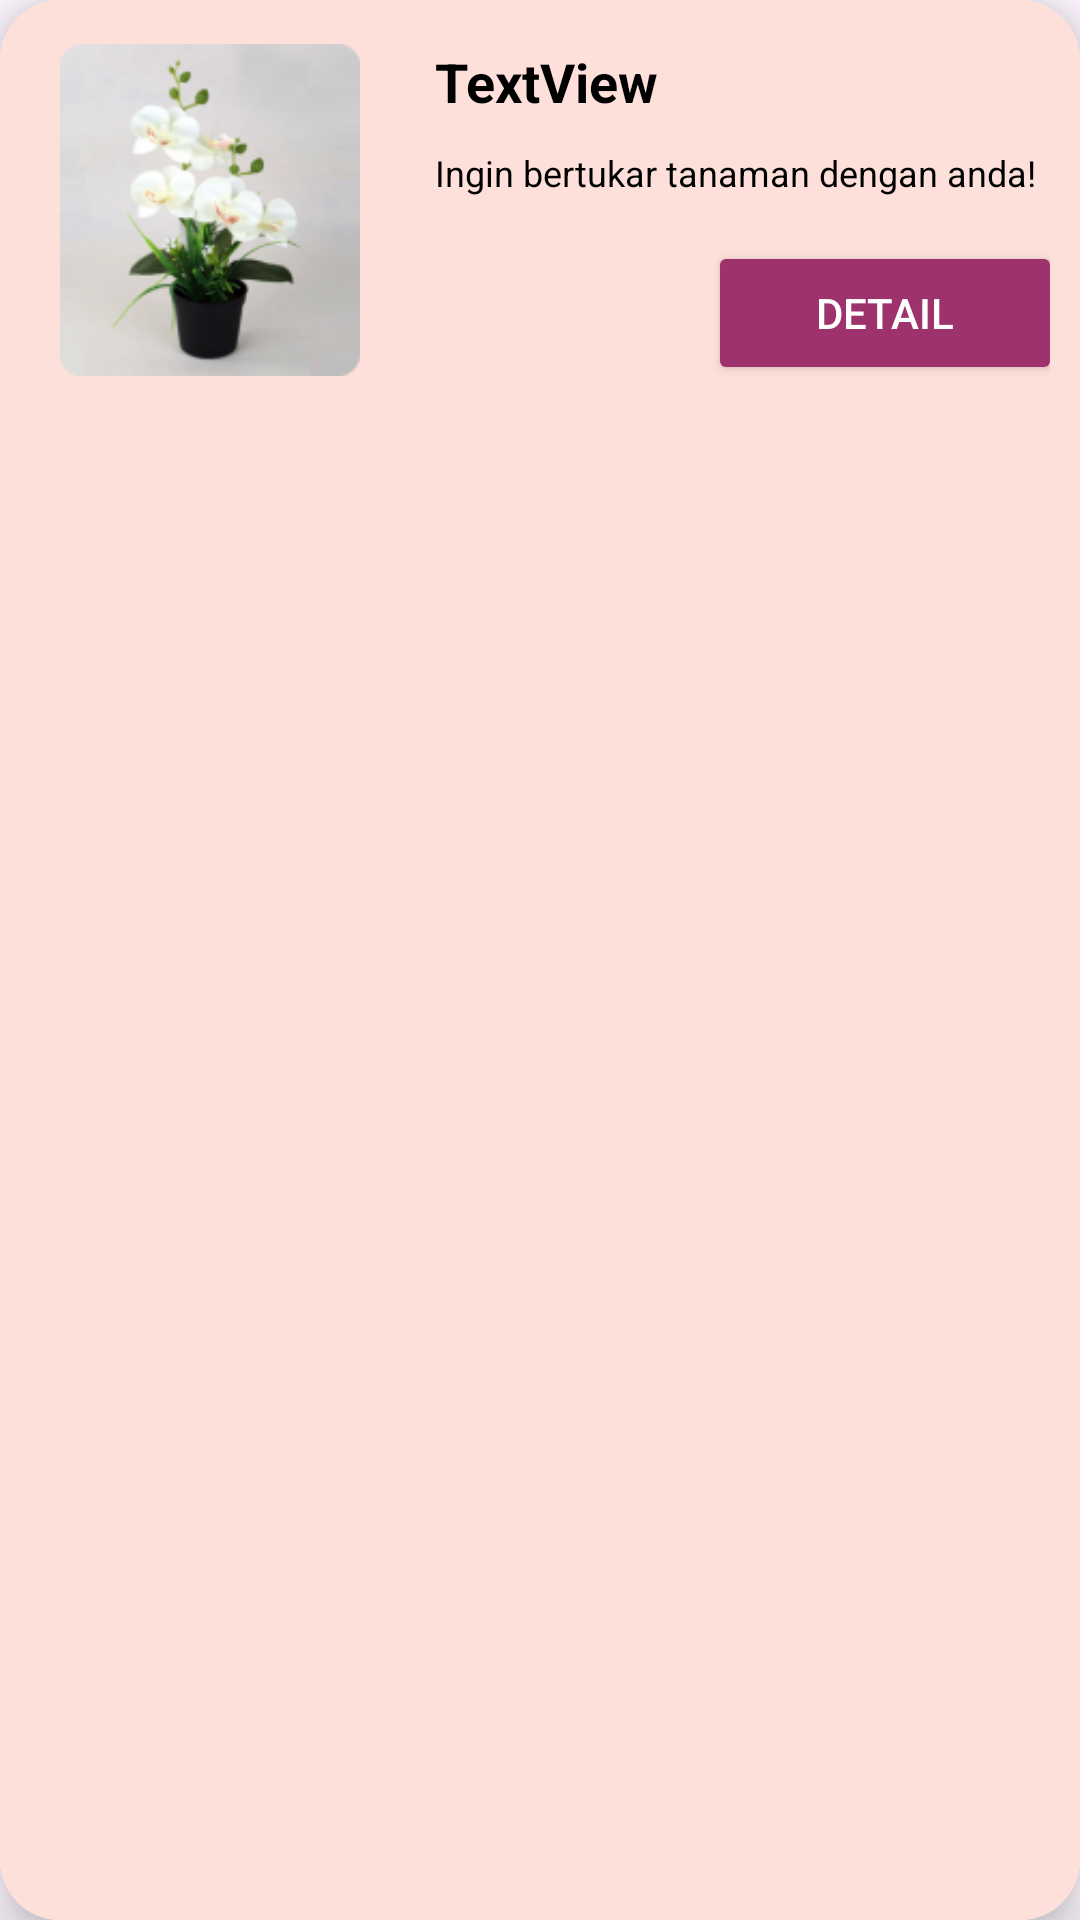

Point at icon controls on the screen. Image size 1080×1920, points as (x=x, y=y).
anngrek: (x=210, y=210)
